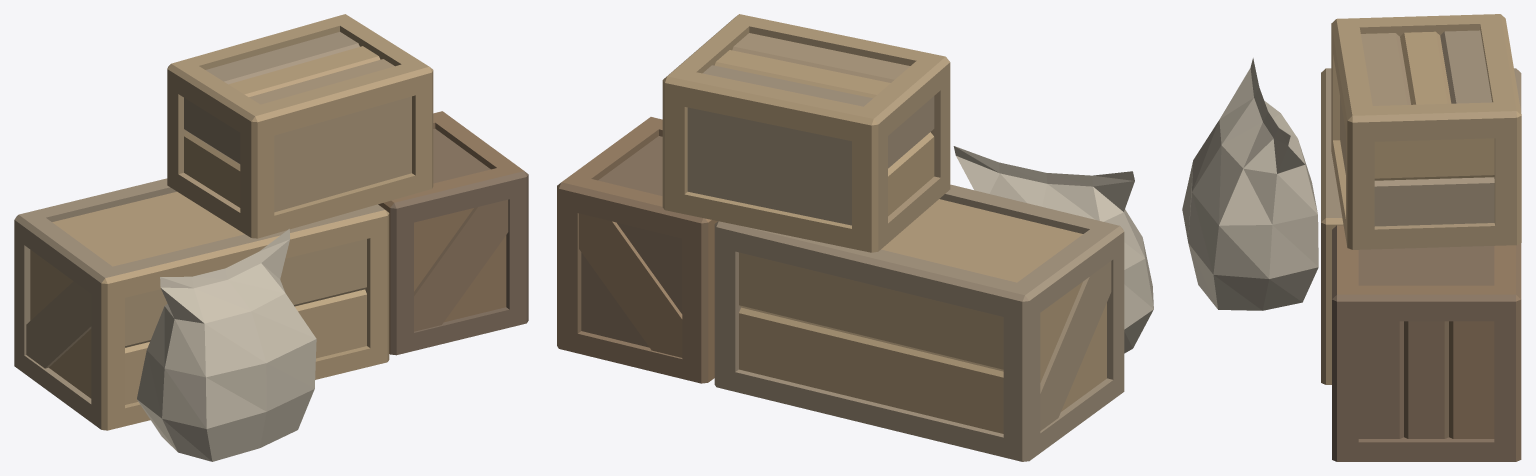
File: crate.glb
3 views of the same model, side by side, from view 1: azimuth 30°, elevation 25°; view 2: azimuth 150°, elevation 25°; view 3: azimuth 270°, elevation 25° (orthographic). The views are drawn at different scales.
Visible parts, largest first — view 1: crate; view 2: crate; view 3: crate.
Boxes of the visible parts, x1,y1,x2,y2 form: crate: (14,14,528,461); crate: (557,14,1153,461); crate: (1182,14,1521,461).
Size of the model in its own units: 1.65 by 0.99 by 1.03.
